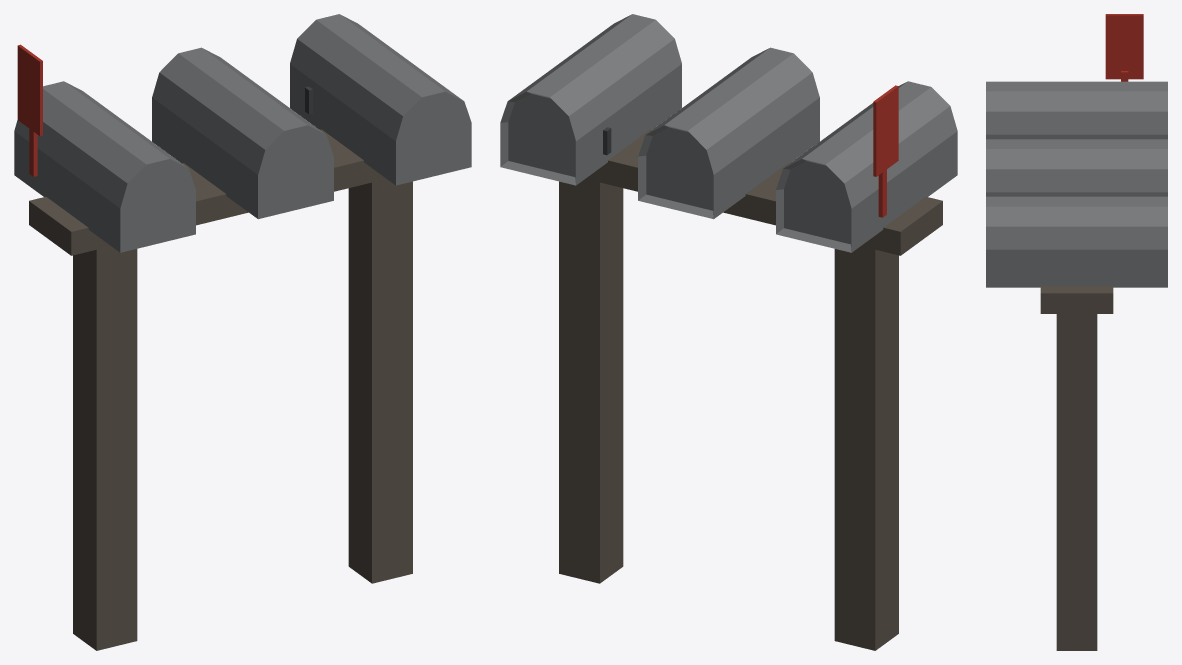
File: mailbox-cluster.glb
The picture shows the model from 3 angles, left to right: view 1: azimuth 30°, elevation 25°; view 2: azimuth 150°, elevation 25°; view 3: azimuth 270°, elevation 25°; orthographic projection. The views are drawn at different scales.
Parts seen in each view (by area): view 1: MailboxCluster, Flag; view 2: MailboxCluster, Flag; view 3: MailboxCluster, Flag.
Boxes of the visible parts, x1,y1,x2,y2 form: MailboxCluster: [14, 14, 471, 650]; Flag: [17, 44, 42, 176]; MailboxCluster: [500, 14, 957, 650]; Flag: [873, 85, 898, 217]; MailboxCluster: [986, 81, 1167, 650]; Flag: [1105, 14, 1143, 81].
Bounding box in the file's own units: 0.84 × 1.2 × 0.4.
